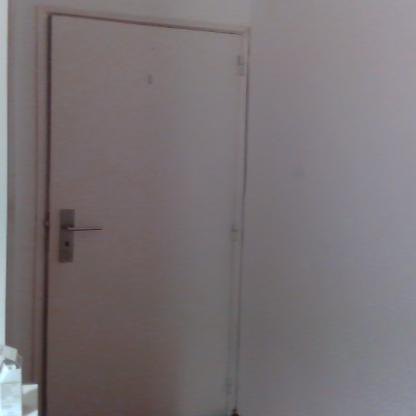door: (48, 13, 232, 416)
hinged: (236, 54, 245, 76), (226, 374, 233, 396), (232, 221, 238, 242)
lever: (63, 224, 104, 232)
